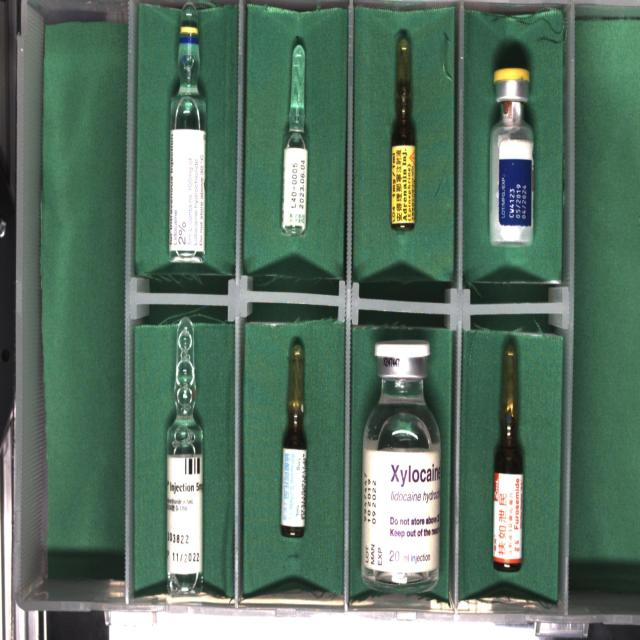Vials: (362, 340, 440, 593), (489, 67, 534, 246)
